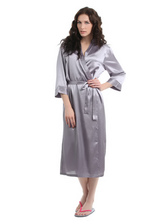clothoes: (53, 39, 126, 178)
